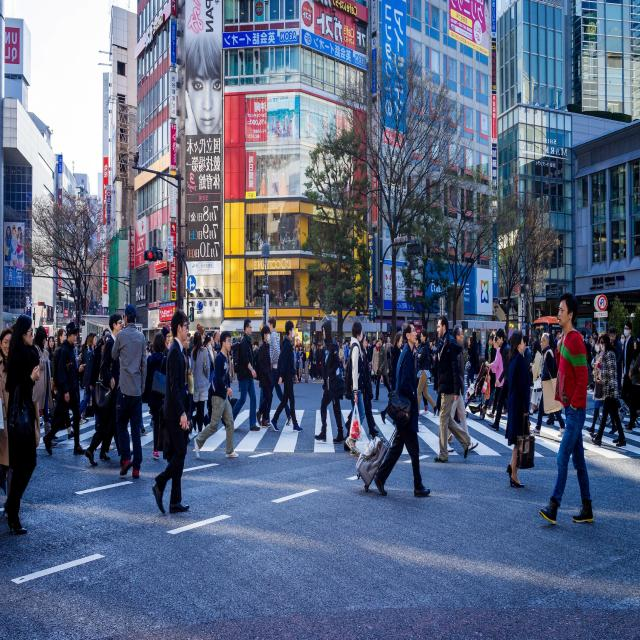adult: (541, 298, 595, 528), (0, 317, 44, 542), (152, 309, 194, 523), (377, 321, 420, 497), (192, 328, 237, 460), (112, 304, 146, 476), (428, 315, 468, 458), (43, 322, 85, 457), (86, 314, 123, 463), (504, 328, 532, 483), (269, 317, 303, 435), (591, 334, 626, 446), (228, 319, 260, 432), (530, 333, 564, 433), (452, 324, 478, 450), (268, 318, 293, 425), (316, 318, 338, 438), (147, 331, 167, 459), (360, 334, 381, 446), (346, 319, 363, 454), (489, 328, 510, 429), (381, 331, 402, 424), (33, 326, 51, 433), (256, 325, 274, 428), (191, 331, 209, 433), (80, 332, 99, 424), (585, 336, 603, 432), (485, 332, 504, 420), (624, 336, 640, 434), (621, 319, 633, 431), (609, 327, 622, 389)
